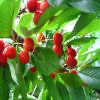Cherry leaf: (30, 45, 62, 75), (41, 69, 63, 99), (14, 60, 29, 99), (76, 67, 99, 91), (59, 71, 84, 93), (15, 13, 32, 39), (20, 20, 37, 43)
